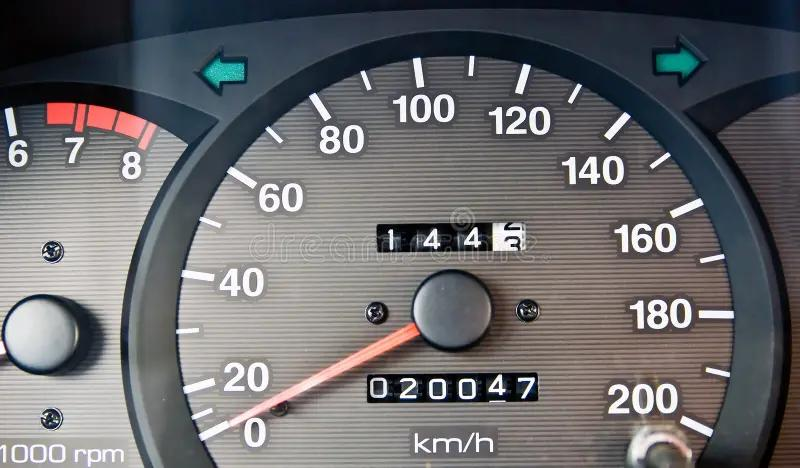0: (428, 378, 447, 399), (370, 377, 387, 399), (459, 379, 476, 399)
2: (399, 378, 418, 399)
4: (486, 374, 508, 396)
7: (516, 377, 536, 399)
odometer: (365, 373, 541, 403)
